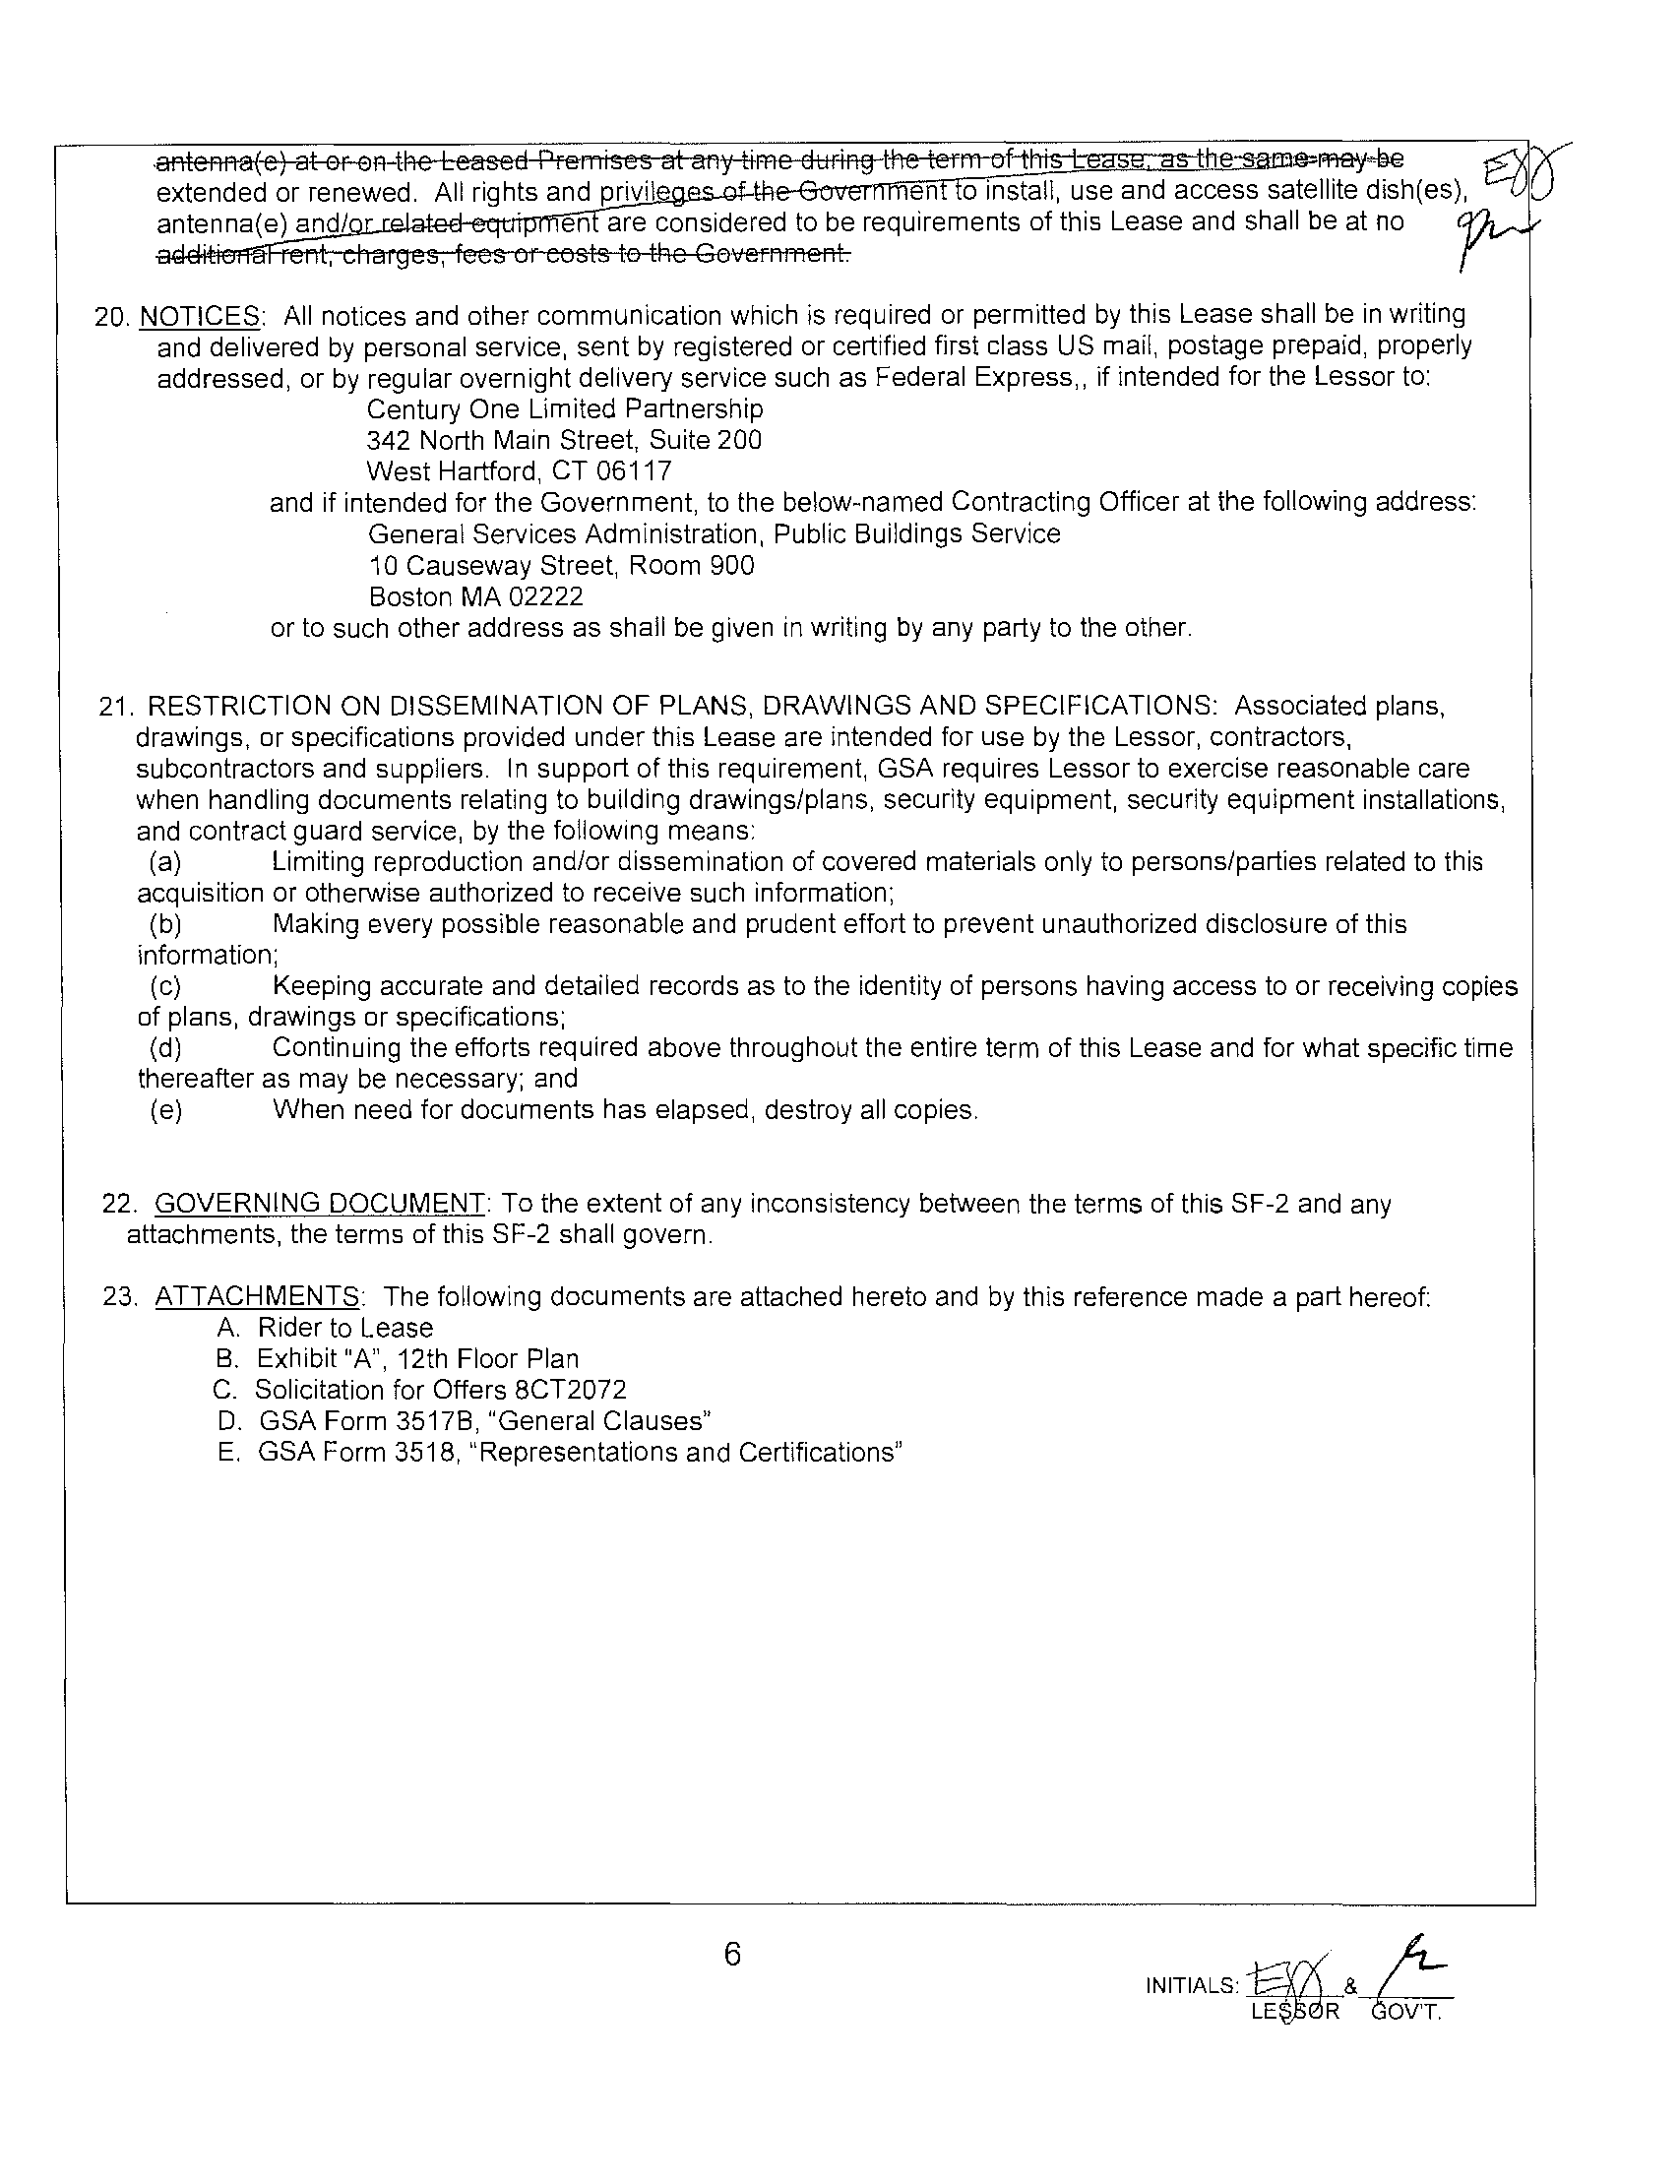handwritten: (1235, 1900, 1456, 2004), (1456, 132, 1578, 270)
